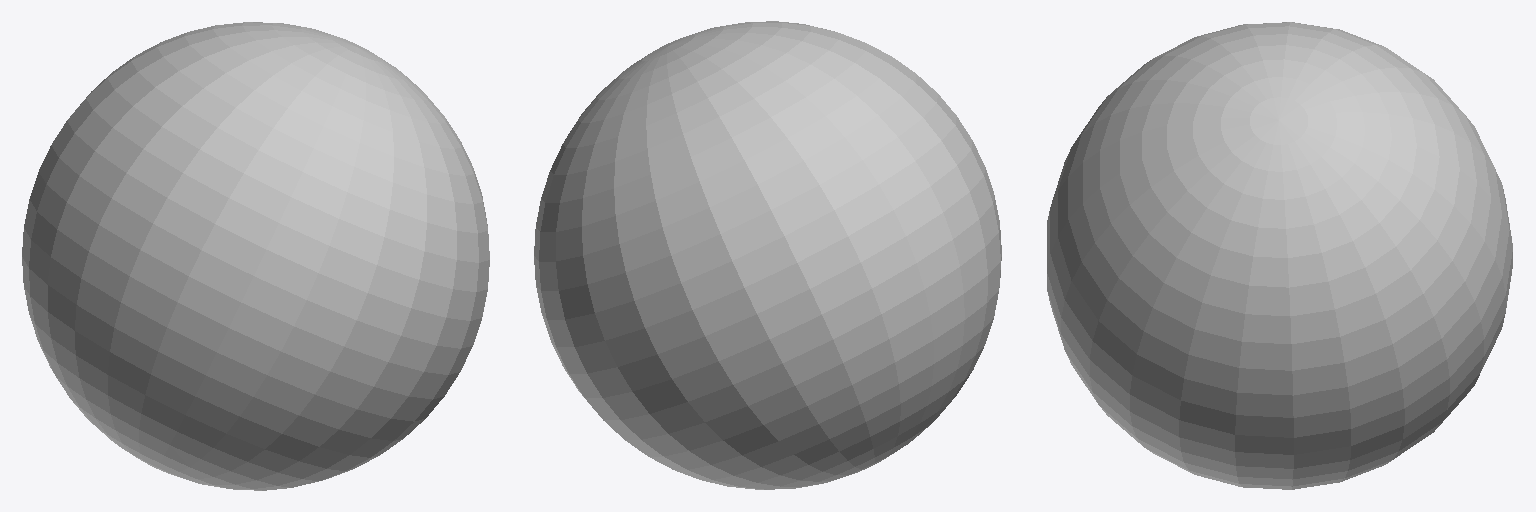
The model's file is CubeWITHAnim0003.obj.
3 renders of one model, left to right at view 1: azimuth 30°, elevation 25°; view 2: azimuth 150°, elevation 25°; view 3: azimuth 270°, elevation 25°, orthographic.
Visible parts, largest first — view 1: NEWJumpBall_Sphere; view 2: NEWJumpBall_Sphere; view 3: NEWJumpBall_Sphere.
Boxes of the visible parts, <box> form: NEWJumpBall_Sphere: <box>22,22,489,490</box>; NEWJumpBall_Sphere: <box>534,21,1001,489</box>; NEWJumpBall_Sphere: <box>1047,22,1512,489</box>.
Size of the model in its own units: 1.99 by 2 by 1.99.